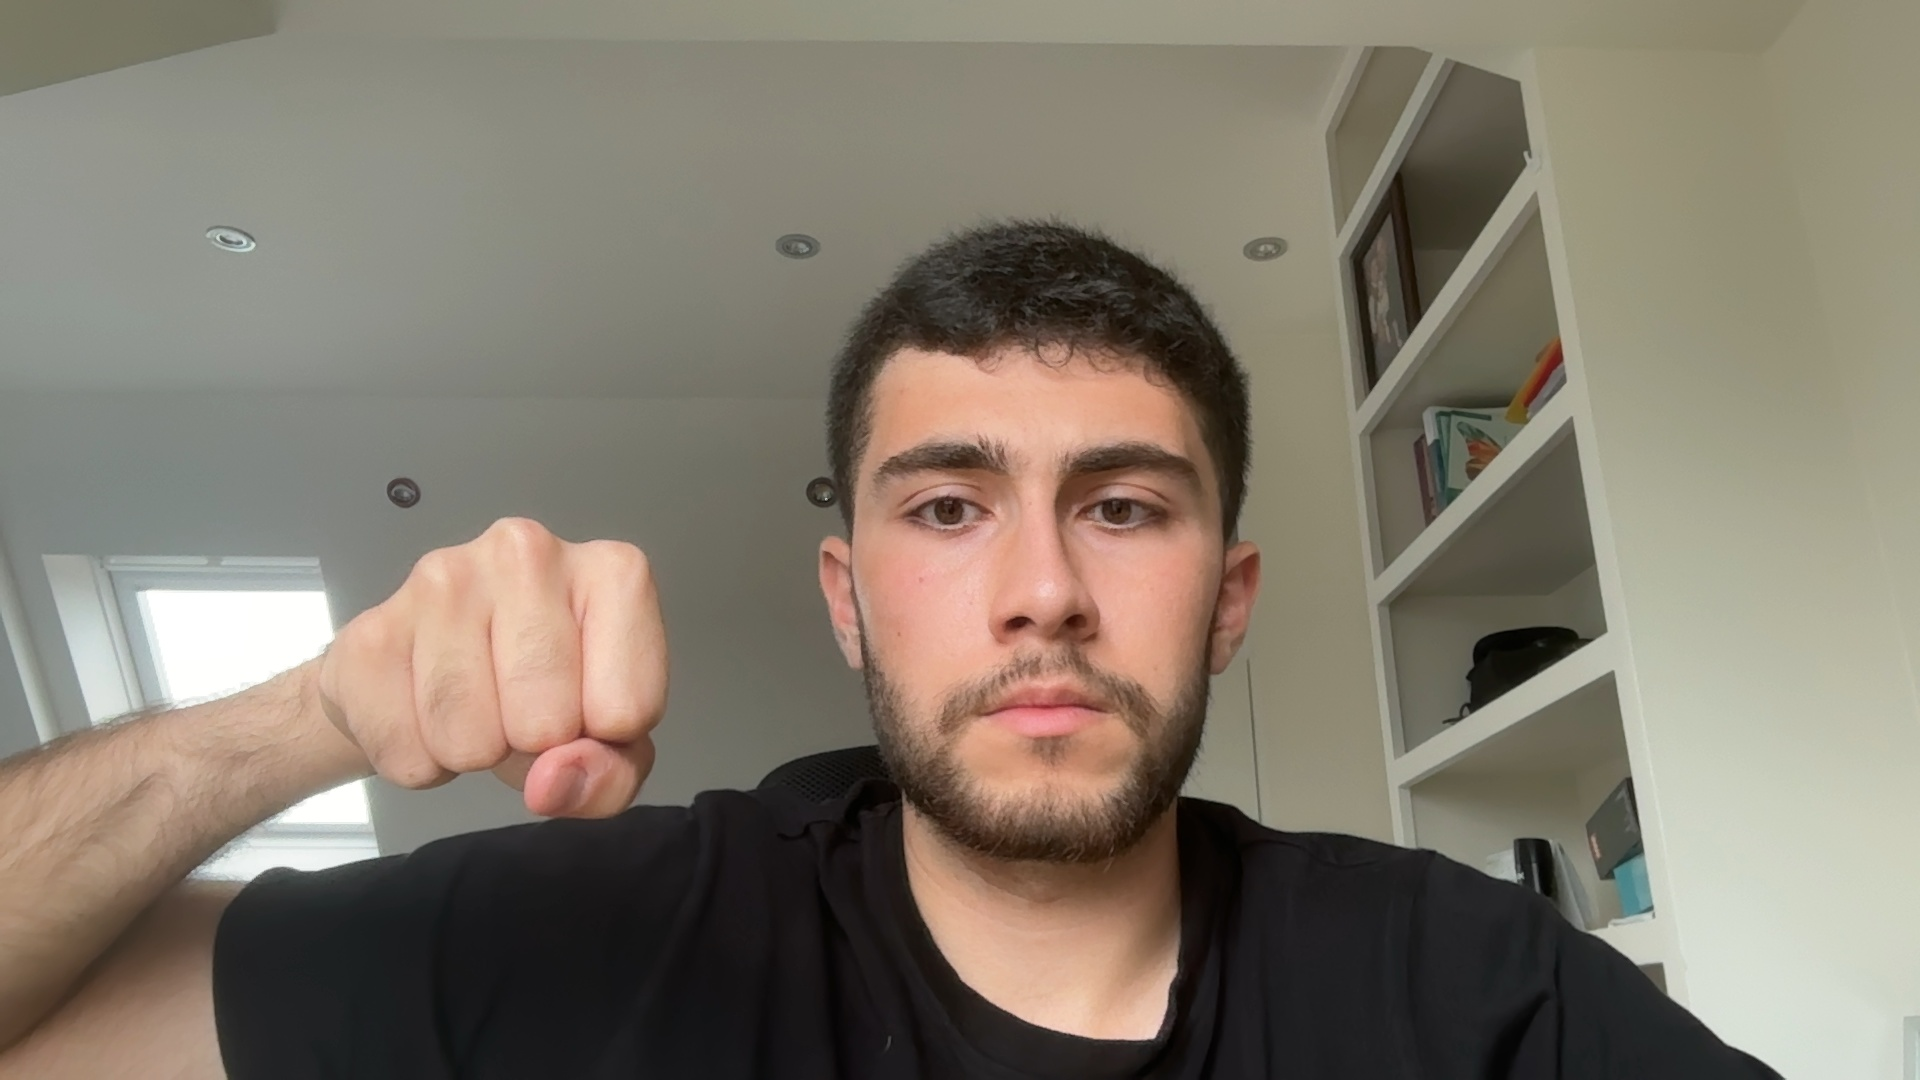yes: (249, 495, 709, 844)
